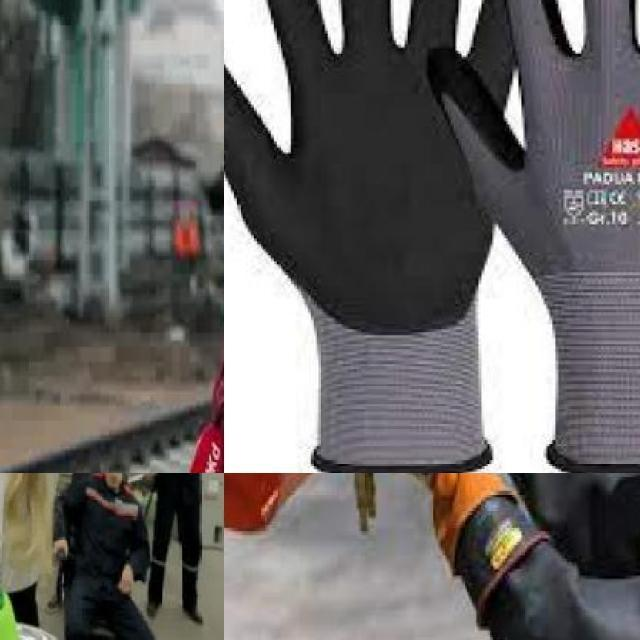apron: (224, 0, 525, 373), (439, 0, 640, 374), (367, 473, 486, 575)
